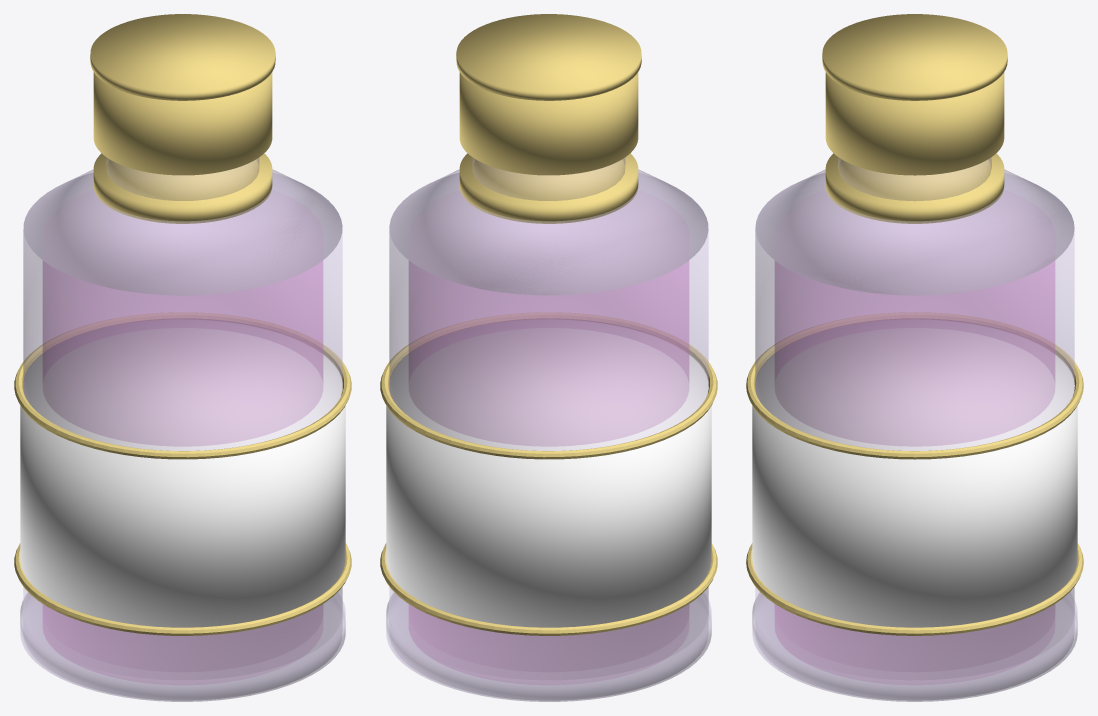
File: premium.glb
3 renders of one model, left to right at view 1: azimuth 30°, elevation 25°; view 2: azimuth 150°, elevation 25°; view 3: azimuth 270°, elevation 25°, orthographic.
Visible parts, largest first — view 1: Body, Label, Liquid, Shoulder, Base, Cap, Cap_Top_Lip, Collar, Label_Top, Neck, Label_Bot; view 2: Body, Label, Liquid, Shoulder, Base, Cap, Cap_Top_Lip, Collar, Label_Top, Neck, Label_Bot; view 3: Body, Label, Liquid, Shoulder, Base, Cap, Cap_Top_Lip, Collar, Label_Top, Neck, Label_Bot.
Boxes of the visible parts, left/top/right/bottom form: Body: left=23, top=173, right=342, bottom=700; Label: left=20, top=319, right=345, bottom=627; Liquid: left=43, top=261, right=322, bottom=684; Shoulder: left=23, top=169, right=342, bottom=295; Base: left=20, top=592, right=345, bottom=701; Cap: left=93, top=72, right=272, bottom=175; Cap_Top_Lip: left=90, top=14, right=275, bottom=100; Collar: left=93, top=153, right=272, bottom=223; Label_Top: left=14, top=312, right=351, bottom=459; Neck: left=106, top=158, right=259, bottom=200; Label_Bot: left=14, top=543, right=351, bottom=635; Body: left=389, top=173, right=708, bottom=700; Label: left=386, top=319, right=711, bottom=627; Liquid: left=409, top=261, right=688, bottom=684; Shoulder: left=389, top=169, right=708, bottom=295; Base: left=386, top=592, right=711, bottom=701; Cap: left=459, top=72, right=638, bottom=175; Cap_Top_Lip: left=456, top=14, right=641, bottom=100; Collar: left=459, top=153, right=638, bottom=223; Label_Top: left=380, top=312, right=717, bottom=459; Neck: left=472, top=158, right=625, bottom=200; Label_Bot: left=380, top=543, right=717, bottom=635; Body: left=755, top=173, right=1074, bottom=700; Label: left=752, top=319, right=1077, bottom=627; Liquid: left=775, top=261, right=1054, bottom=684; Shoulder: left=755, top=169, right=1074, bottom=295; Base: left=752, top=593, right=1077, bottom=701; Cap: left=825, top=72, right=1004, bottom=175; Cap_Top_Lip: left=822, top=14, right=1007, bottom=100; Collar: left=825, top=153, right=1004, bottom=223; Label_Top: left=746, top=312, right=1083, bottom=459; Neck: left=838, top=157, right=991, bottom=200; Label_Bot: left=746, top=543, right=1083, bottom=635.
Bounding box in the file's own units: 2.12 × 4.01 × 2.12.
